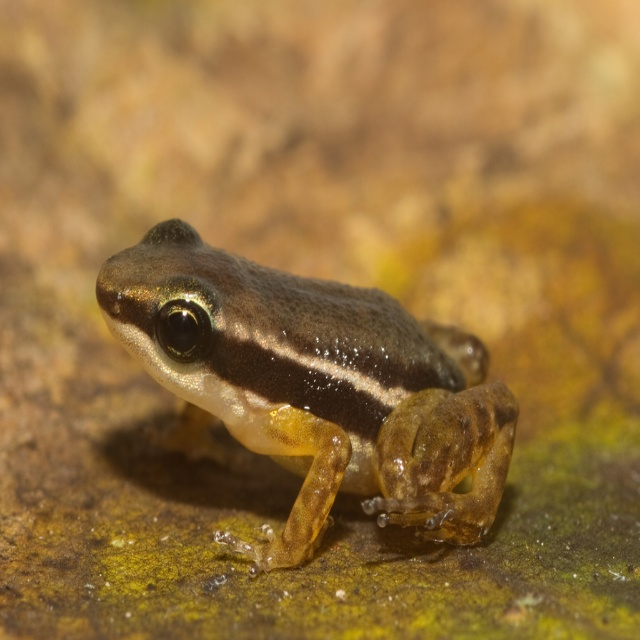Frog: (95, 217, 519, 581)
